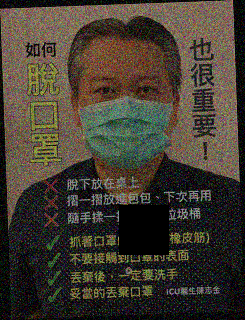with_mask: (78, 71, 173, 171)
